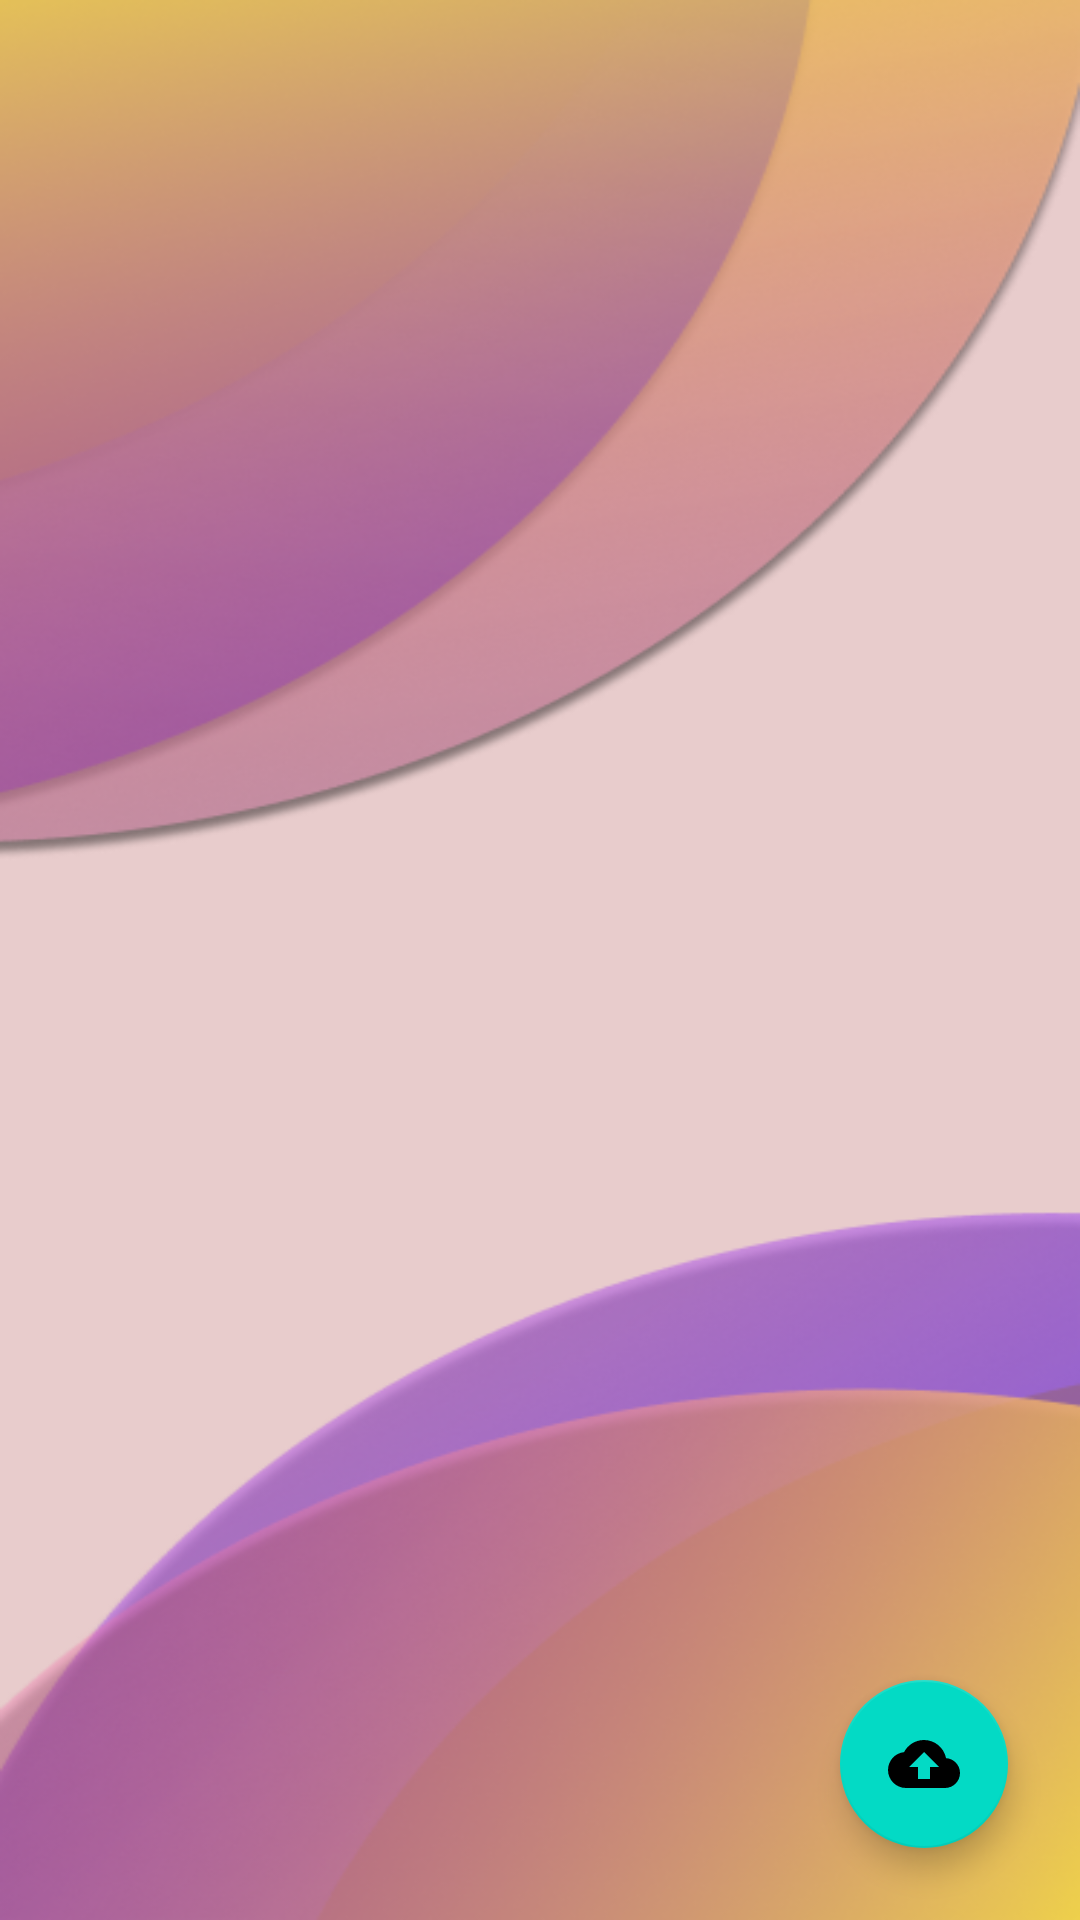

Locate icon controls on the screen. Image size 1080w x 1920h, boxes as {"x1": x1, "y1": y1, "x2": x2, "y2": y2}.
cloud upload: {"x1": 840, "y1": 1680, "x2": 1008, "y2": 1848}
